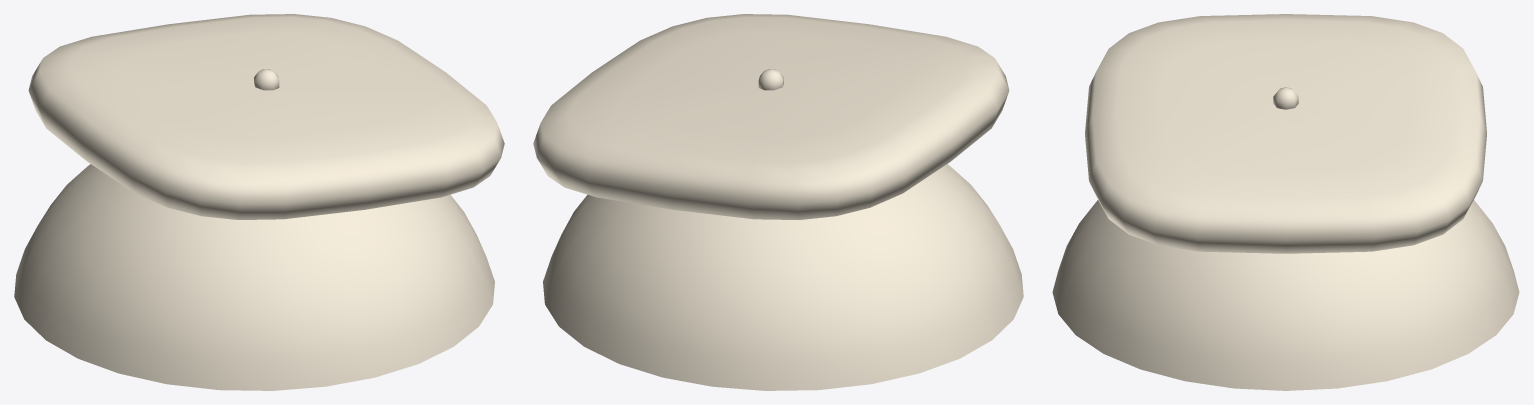
Rendered from beret.glb.
The picture shows the model from 3 angles, left to right: view 1: azimuth 30°, elevation 25°; view 2: azimuth 150°, elevation 25°; view 3: azimuth 270°, elevation 25°; orthographic projection. The views are drawn at different scales.
Visible parts, largest first — view 1: beret_Head; view 2: beret_Head; view 3: beret_Head.
Boxes of the visible parts, bbox=[...] form: beret_Head: bbox=[14, 14, 504, 390]; beret_Head: bbox=[533, 14, 1023, 390]; beret_Head: bbox=[1052, 14, 1519, 390].
Size of the model in its own units: 0.6966 by 0.3481 by 0.6966.
